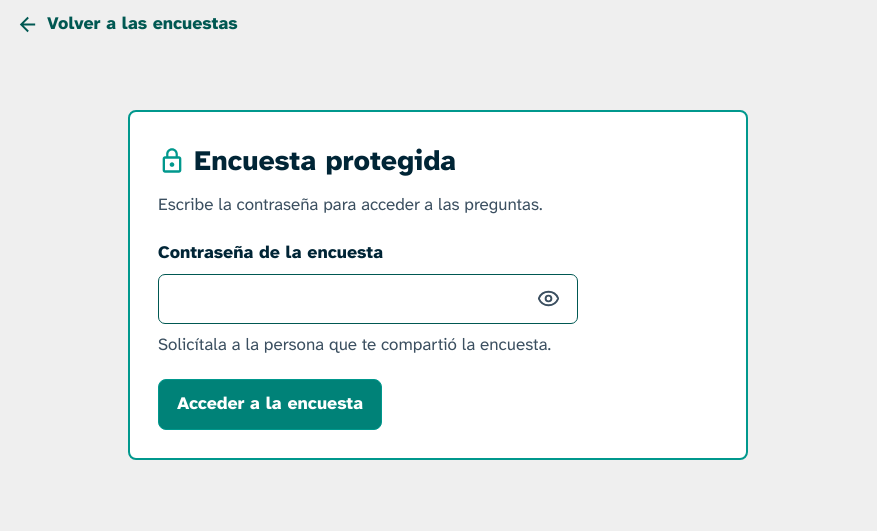
Test: PublicSurveyPage › desbloquea una encuesta protegida con una contraseña válida
This screenshot has width=877, height=531.
Expected: the heading "Encuesta protegida" is shown, [158, 142, 456, 179]
Type "secreta" into the password field labelled "Contraseña de la encuesta" at (368, 299), box [158, 274, 578, 324]
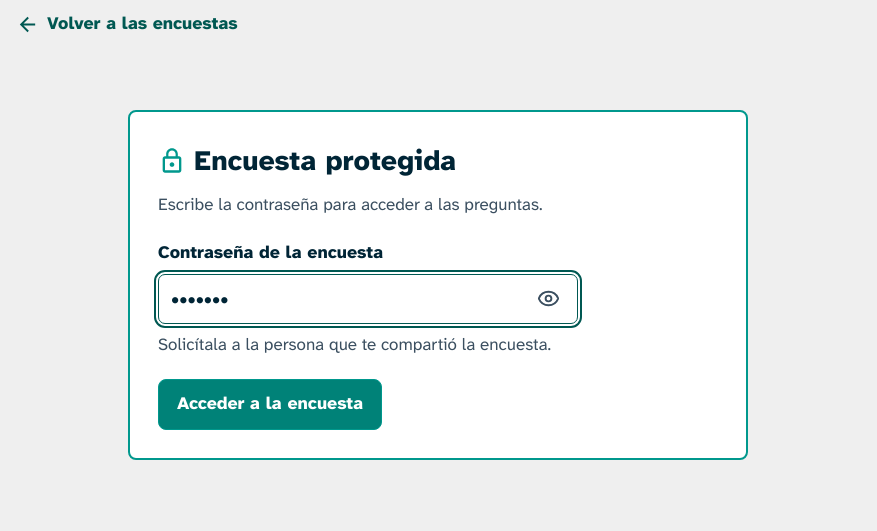
Click the button "Acceder a la encuesta" at (270, 405), box [158, 379, 382, 430]
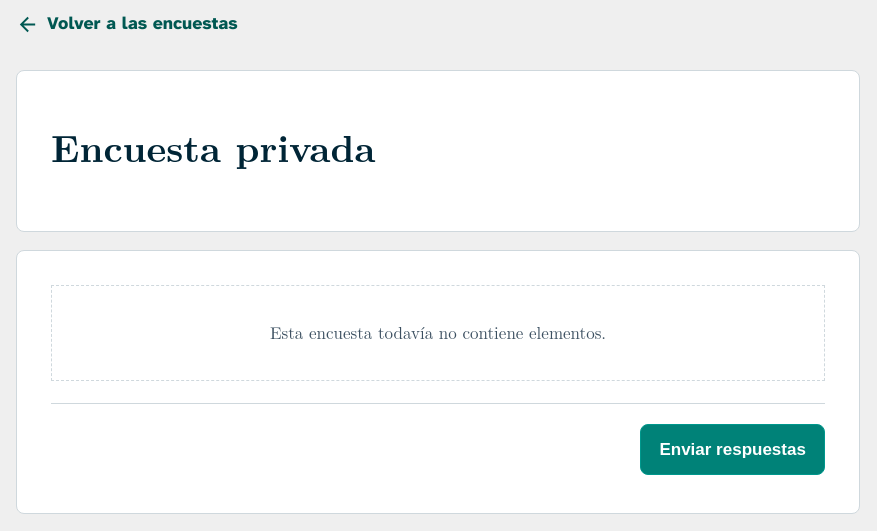
Result: the button "Enviar respuestas" is shown at [640, 424, 825, 475]
